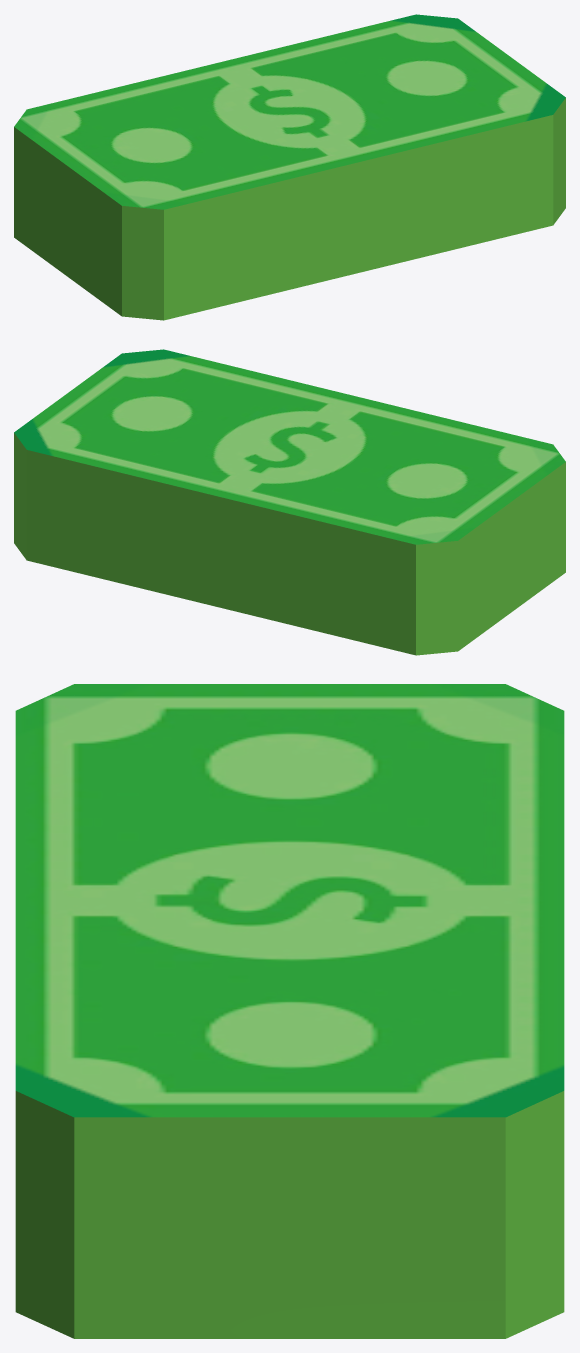
Rendered from Cash.fbx.
3 views of the same model, one above another, from view 1: azimuth 30°, elevation 25°; view 2: azimuth 150°, elevation 25°; view 3: azimuth 270°, elevation 25° (orthographic). The views are drawn at different scales.
Visible parts, largest first — view 1: Cash; view 2: Cash; view 3: Cash.
Boxes of the visible parts, <box> form: Cash: <box>14,14,565,320</box>; Cash: <box>14,349,565,655</box>; Cash: <box>15,684,564,1338</box>.
Bounding box in the file's own units: 2 × 0.4768 × 1.07.
